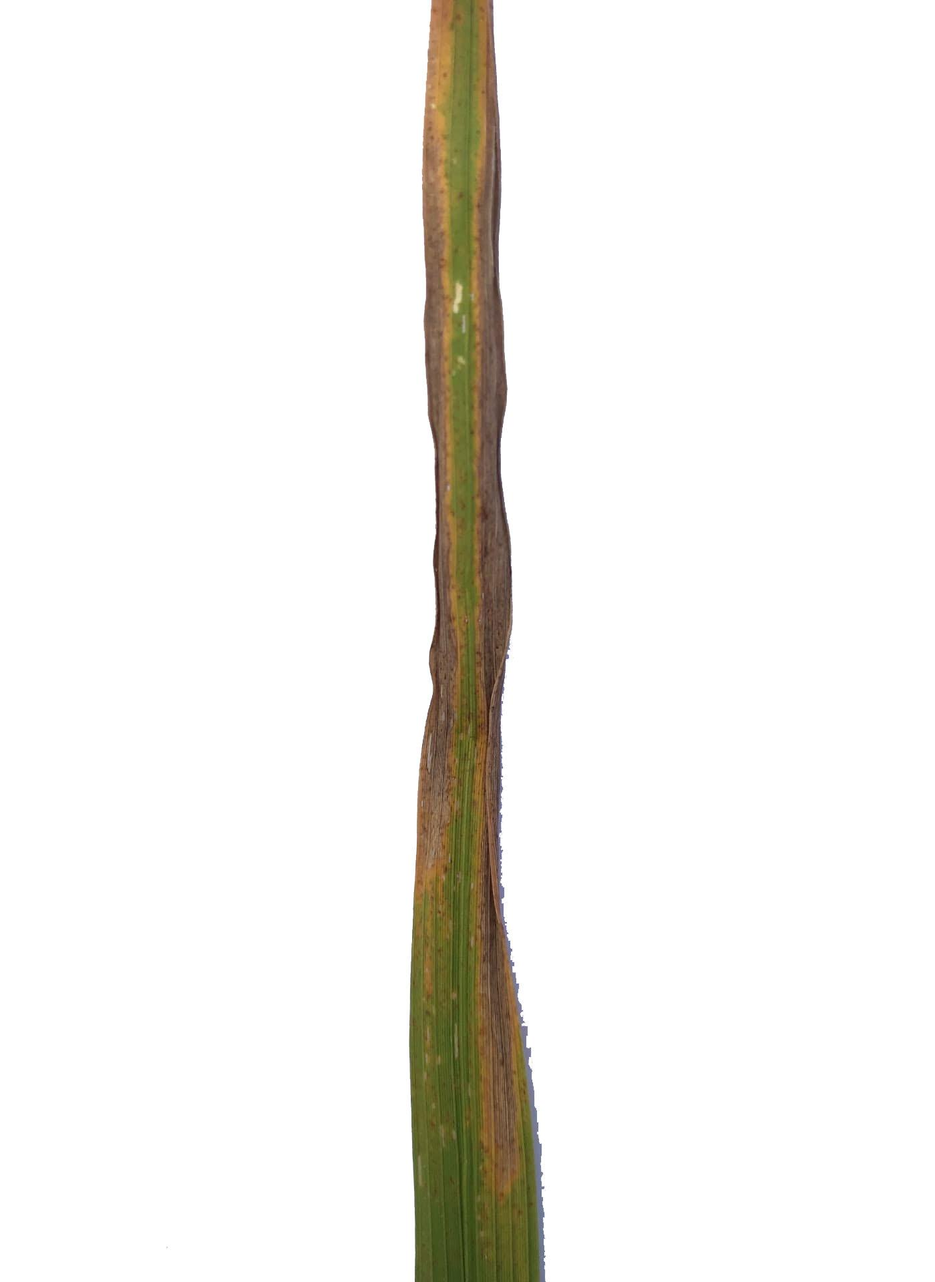Rice blast: (407, 0, 547, 1282)
